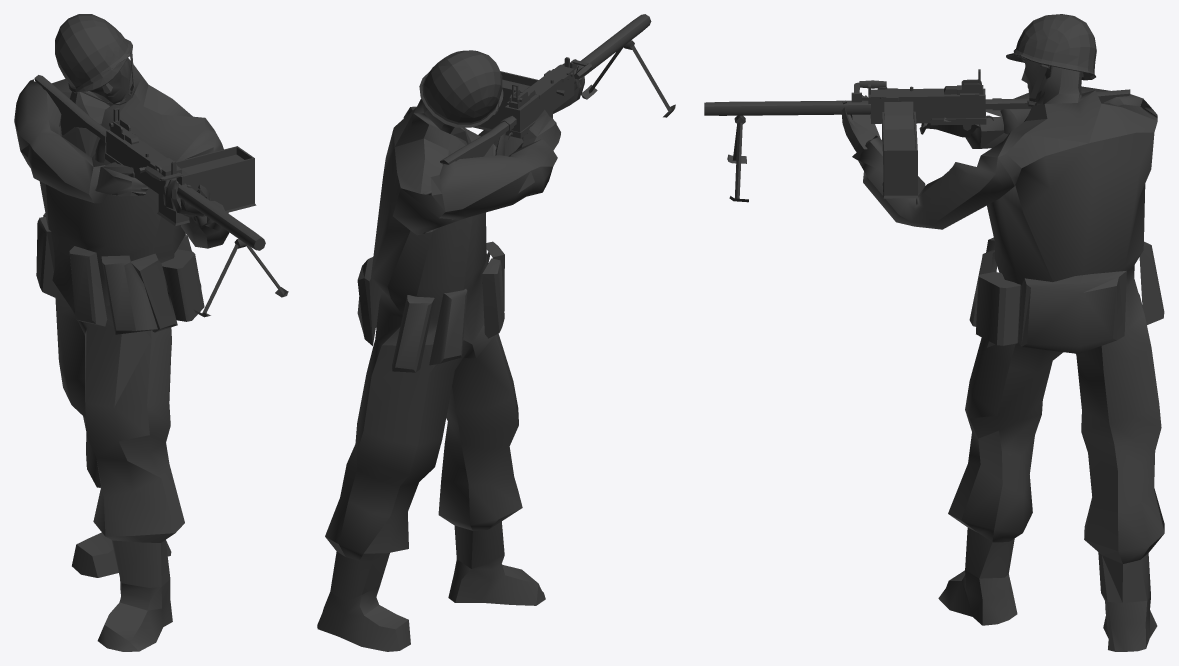
File: us_bar_piedi.glb
3 views of the same model, side by side, from view 1: azimuth 30°, elevation 25°; view 2: azimuth 150°, elevation 25°; view 3: azimuth 270°, elevation 25° (orthographic).
Parts seen in each view (by area): view 1: Object.003_Object.016_2; view 2: Object.003_Object.016_2; view 3: Object.003_Object.016_2.
Boxes of the visible parts, x1,y1,x2,y2 form: Object.003_Object.016_2: [14, 14, 288, 651]; Object.003_Object.016_2: [317, 14, 675, 651]; Object.003_Object.016_2: [704, 14, 1164, 651].
Size of the model in its own units: 0.1609 by 0.5 by 0.3564.
1 material, 1 textured.
